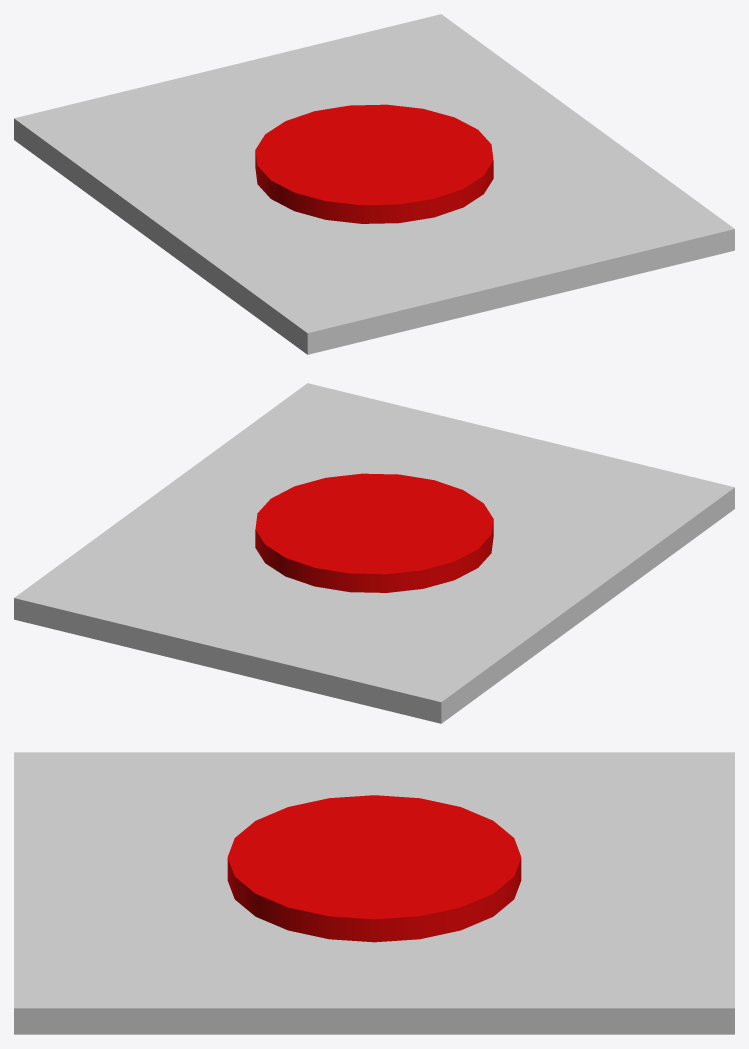
The model's file is Pressure plate.fbx.
3 views of the same model, one above another, from view 1: azimuth 30°, elevation 25°; view 2: azimuth 150°, elevation 25°; view 3: azimuth 270°, elevation 25° (orthographic). The views are drawn at different scales.
Parts seen in each view (by area): view 1: pasted__Pressure_plate; view 2: pasted__Pressure_plate; view 3: pasted__Pressure_plate.
Boxes of the visible parts, x1=… form: pasted__Pressure_plate: x1=14, y1=14, x2=734, y2=354; pasted__Pressure_plate: x1=14, y1=383, x2=734, y2=723; pasted__Pressure_plate: x1=14, y1=752, x2=734, y2=1034.
Bounding box in the file's own units: 2.94 × 0.2654 × 3.5.
